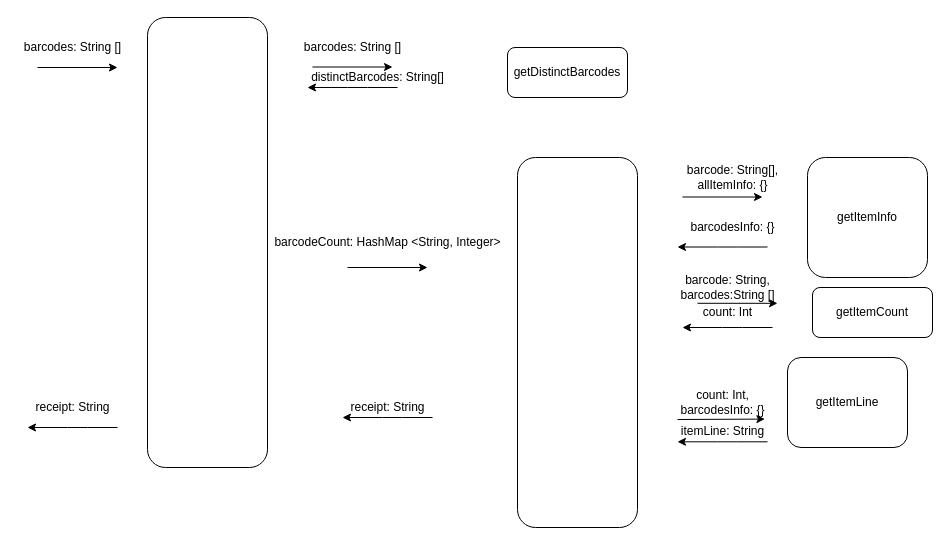
Some shapes in this 950 by 545 pixel diagram are drawn without their labels. The centre of each missing label's shape, as x and y in pixels:
"getDisplayReceipt" goes at point 577,342.
"printReceipt" goes at point 207,242.
